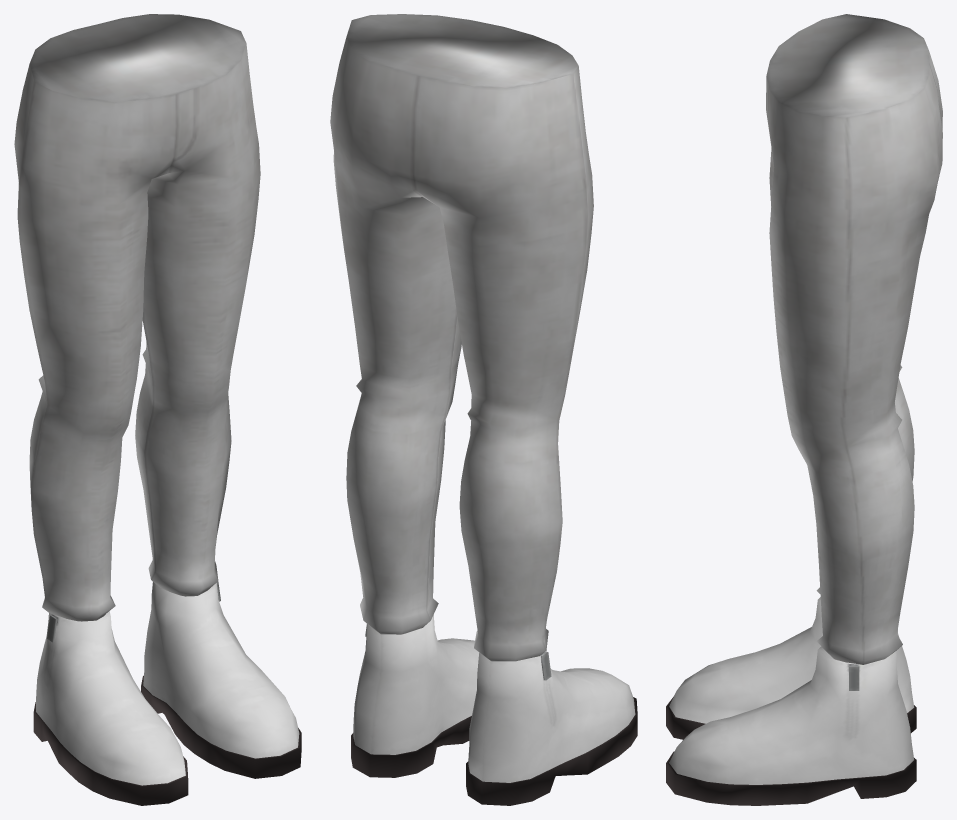
Rendered from tr0770_00_lwb03.gltf.
The picture shows the model from 3 angles, left to right: view 1: azimuth 30°, elevation 25°; view 2: azimuth 150°, elevation 25°; view 3: azimuth 270°, elevation 25°; orthographic projection. The views are drawn at different scales.
Visible parts, largest first — view 1: lwb03_lowerbody_mesh_shape:lowerbody03, lwb03_shoes_mesh_shape:lowerbody03; view 2: lwb03_lowerbody_mesh_shape:lowerbody03, lwb03_shoes_mesh_shape:lowerbody03; view 3: lwb03_lowerbody_mesh_shape:lowerbody03, lwb03_shoes_mesh_shape:lowerbody03.
Part boxes in pixels (left/top/right/bottom): lwb03_lowerbody_mesh_shape:lowerbody03: left=14, top=14, right=260, bottom=621; lwb03_shoes_mesh_shape:lowerbody03: left=33, top=581, right=301, bottom=805; lwb03_lowerbody_mesh_shape:lowerbody03: left=330, top=14, right=593, bottom=661; lwb03_shoes_mesh_shape:lowerbody03: left=351, top=615, right=637, bottom=805; lwb03_lowerbody_mesh_shape:lowerbody03: left=766, top=14, right=942, bottom=664; lwb03_shoes_mesh_shape:lowerbody03: left=666, top=597, right=916, bottom=805.
Size of what is drawn, in the model's own units: 0.3435 by 0.9303 by 0.3374.
Materials: 1 (1 with a texture image).
